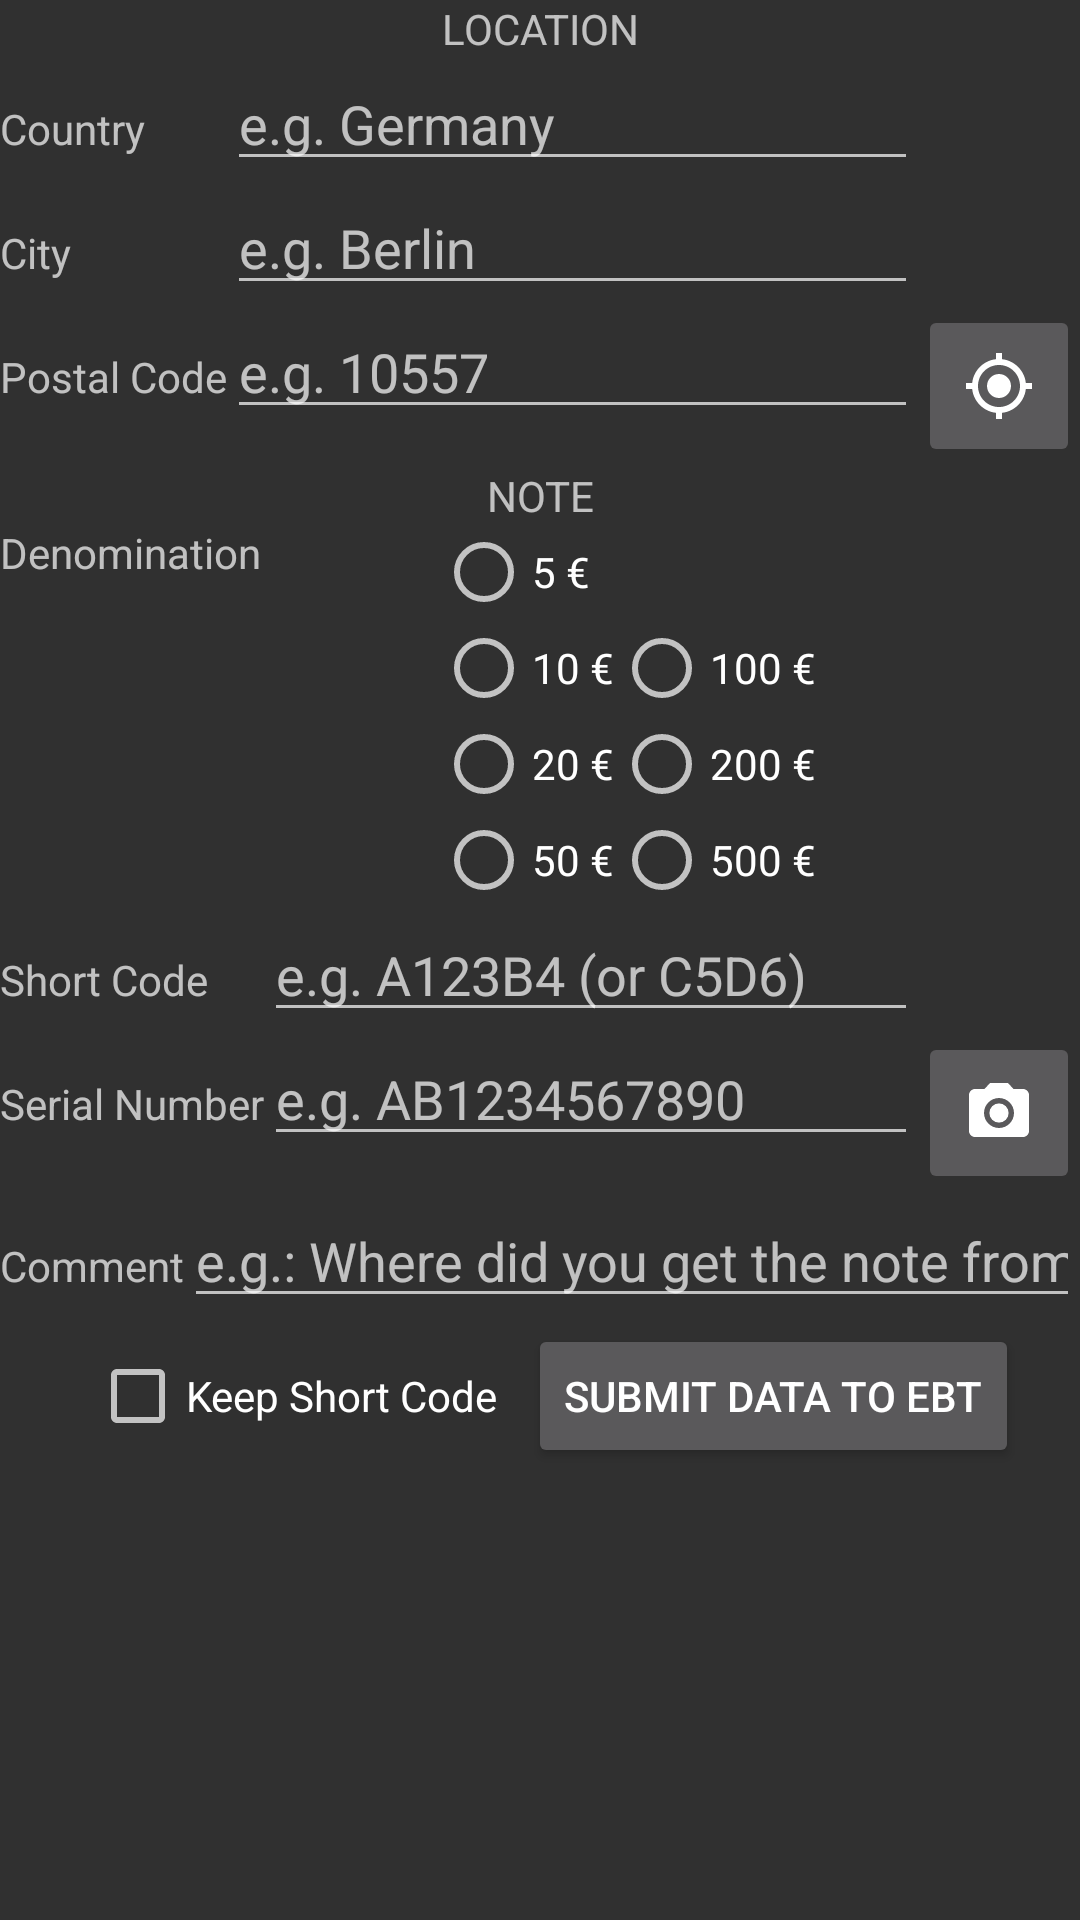

Icons on this 1080px x 1920px Android screen, each with its box as (x1, y1, x2, y2):
get the current location from the device: (930, 323, 1068, 449)
take a photo and acquire the values: (930, 1050, 1068, 1176)
